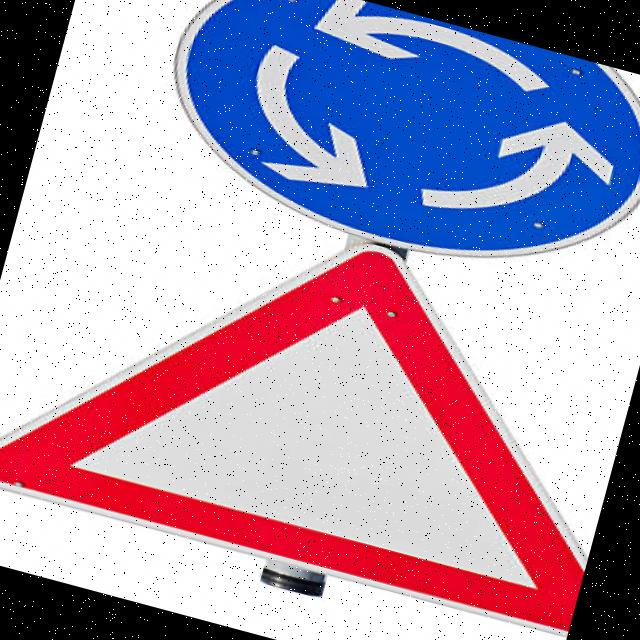round_about: (118, 0, 640, 319)
